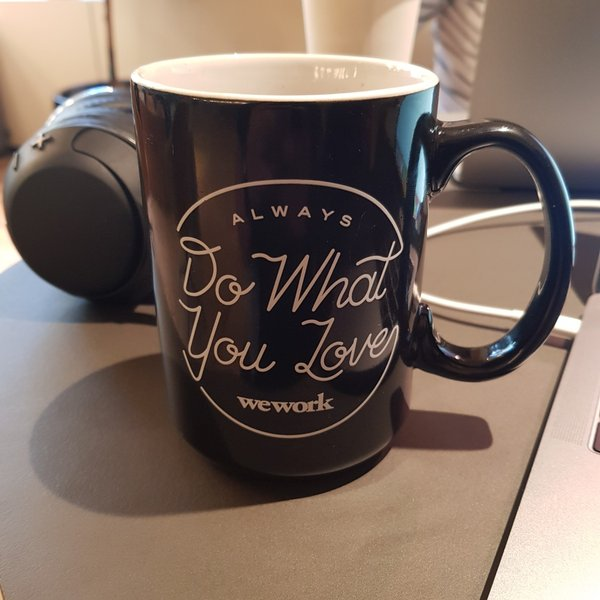wework: (234, 391, 338, 416)
